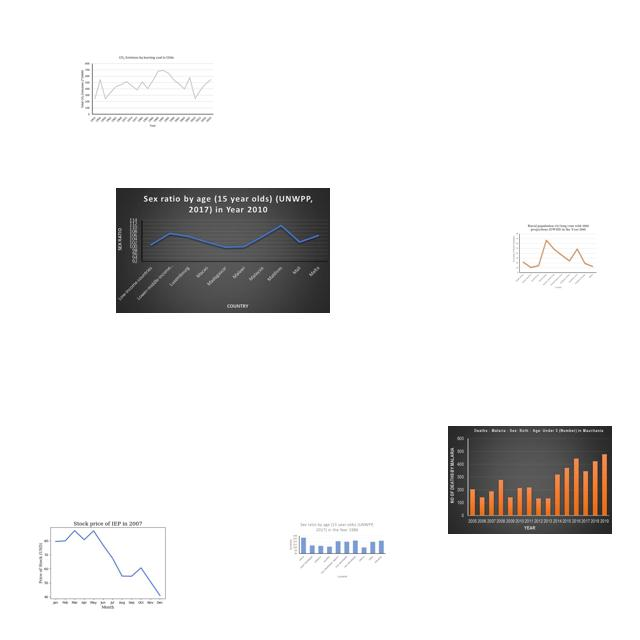Graph: (116, 188, 330, 313), (448, 426, 612, 534), (32, 507, 180, 618), (79, 54, 214, 128), (287, 521, 388, 580), (512, 223, 597, 289)
